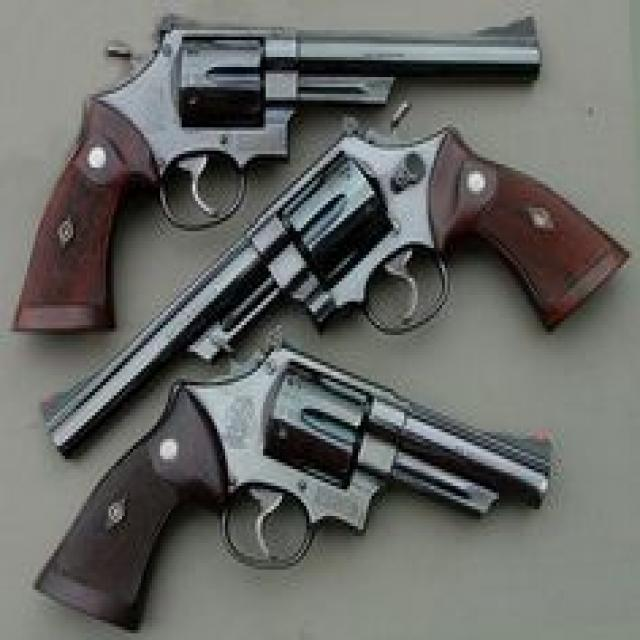revolver: (0, 0, 640, 344)
